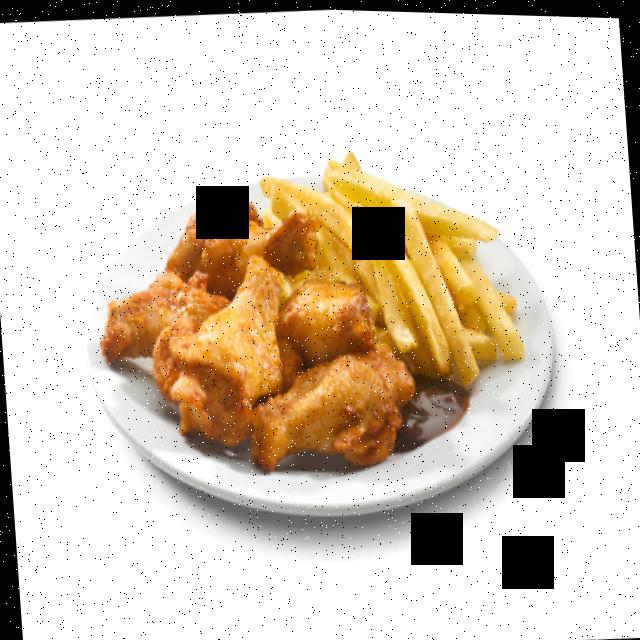Frango: (83, 171, 420, 488)
